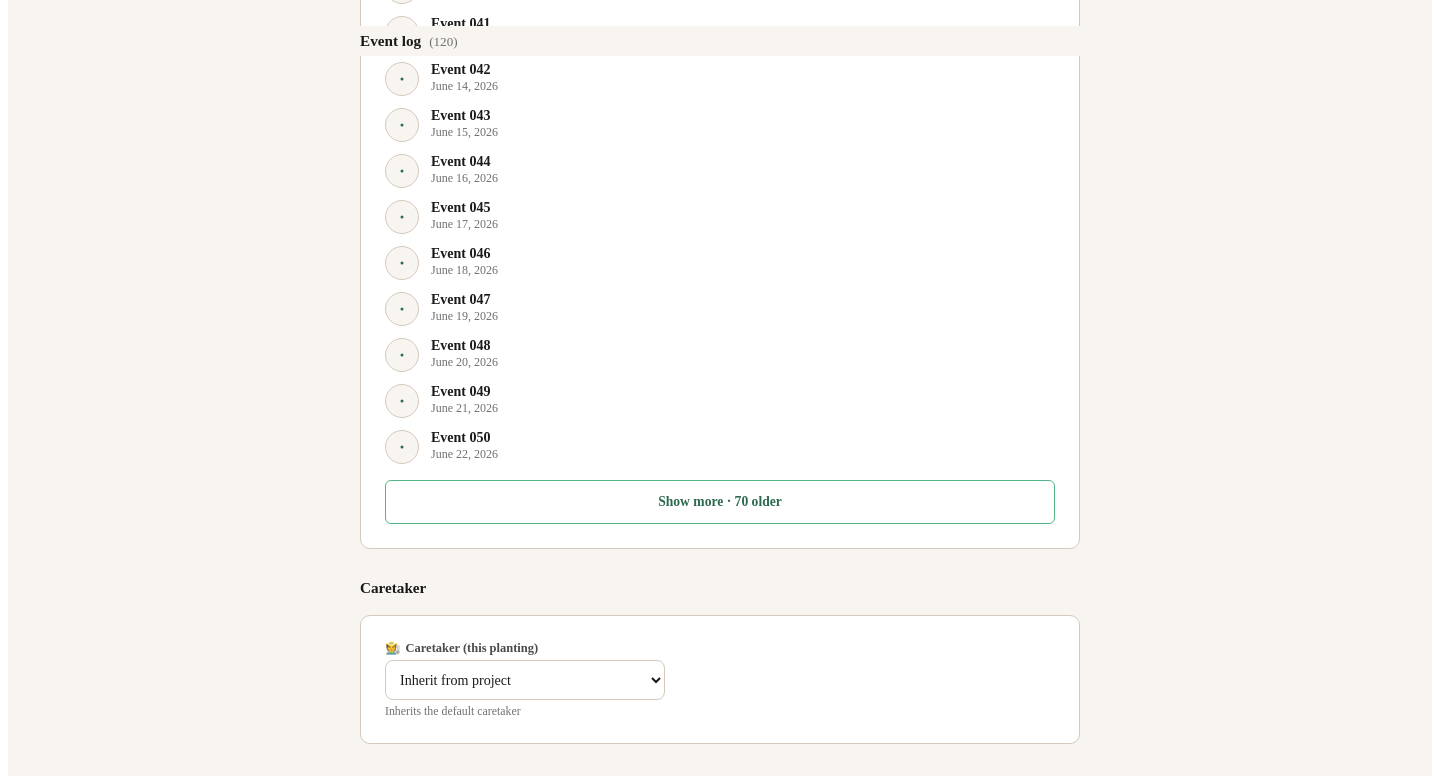
Scenario: PlantingDetail event log — raise-and-page (V4-EVENTHISTPAGE-001) › Show more reveals the next 50 and keeps the already-shown rows
(page scrolled)
Click the button with test id "event-log-show-more": click(720, 502) [385, 480, 1055, 524]
(page scrolled)
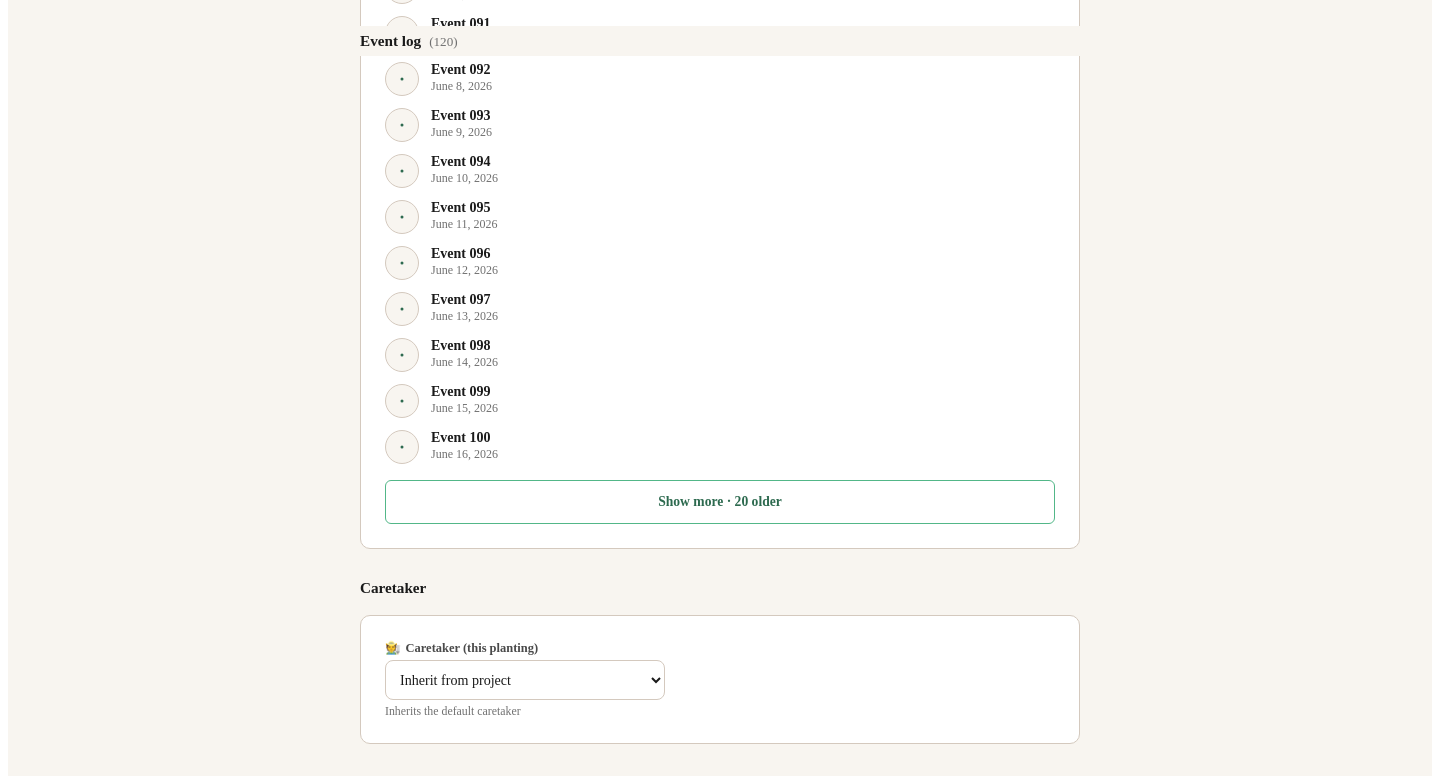
Expected: the text "Event 100" is shown, [431, 430, 490, 445]
Expected: the button with test id "event-log-show-more" shows "20 older", [385, 480, 1055, 524]
